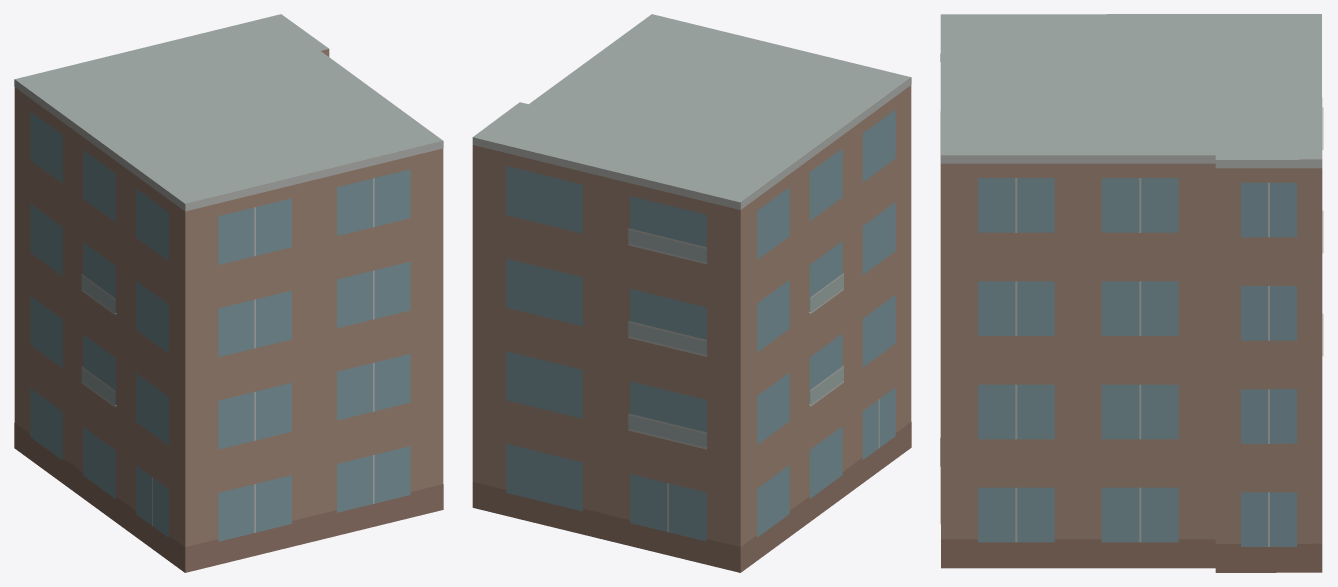
The model's file is survey-upis-32911605.glb.
3 views of the same model, side by side, from view 1: azimuth 30°, elevation 25°; view 2: azimuth 150°, elevation 25°; view 3: azimuth 270°, elevation 25° (orthographic). The views are drawn at different scales.
Visible parts, largest first — view 1: survey-upis-32911605.tmp; view 2: survey-upis-32911605.tmp; view 3: survey-upis-32911605.tmp.
Boxes of the visible parts, box(x1,y1,x2,y2) form: survey-upis-32911605.tmp: box(14, 14, 443, 572); survey-upis-32911605.tmp: box(472, 14, 911, 572); survey-upis-32911605.tmp: box(940, 14, 1323, 572).
Bounding box in the file's own units: 9.07 × 11.9 × 10.01.
